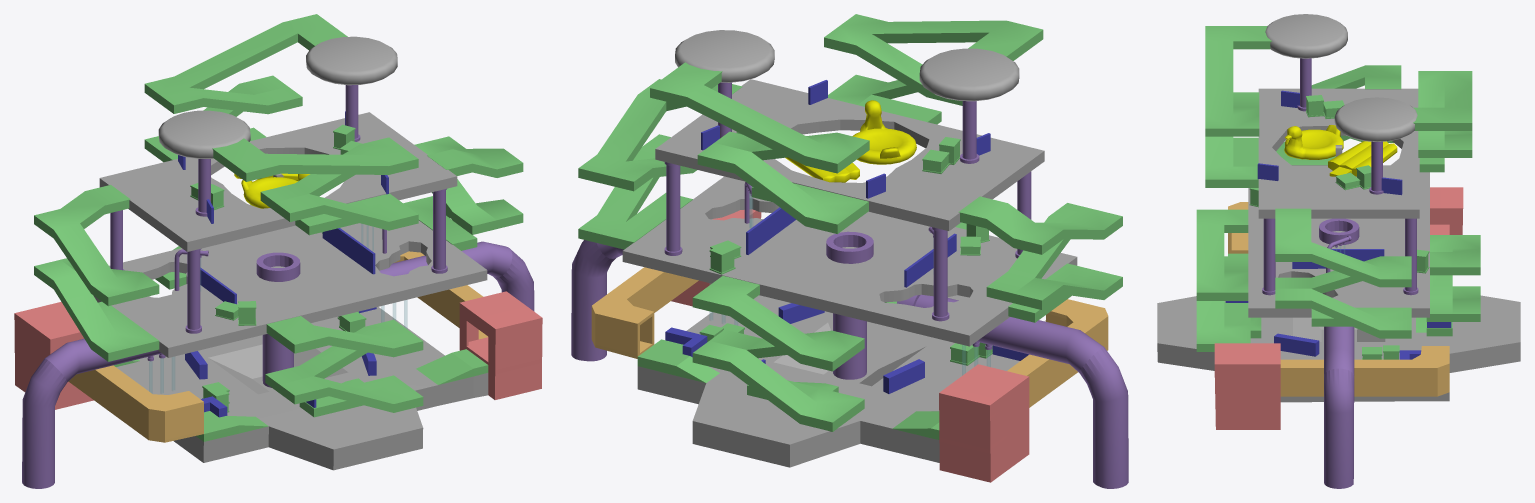
Rendered from Entire_Stage.fbx.
3 views of the same model, side by side, from view 1: azimuth 30°, elevation 25°; view 2: azimuth 150°, elevation 25°; view 3: azimuth 270°, elevation 25° (orthographic). The views are drawn at different scales.
Parts seen in each view (by area): view 1: level_base_1, level_base_2, level_base_3, Ramp_6, Ramp_7, Ramp_2, Ramp_8, Ramp_5, PIpe_L, platform2, platform1, Pipe_R (+10 smaller); view 2: level_base_1, level_base_2, level_base_3, Ramp_8, Ramp_1, Ramp_6, Ramp_7, Ramp_5, PIpe_L, platform1, platform2, Pipe_R (+13 smaller); view 3: level_base_1, level_base_3, Ramp_5, level_base_2, Ramp_7, Ramp_2, Ramp_8, Pipe_R, Ramp_1, platform2, platform1, Ramp_6 (+9 smaller).
Part boxes in pixels (x1=…): level_base_1: x1=14, y1=251, x2=542, y2=470; level_base_2: x1=93, y1=220, x2=487, y2=357; level_base_3: x1=99, y1=112, x2=457, y2=251; Ramp_6: x1=34, y1=185, x2=159, y2=361; Ramp_7: x1=212, y1=137, x2=418, y2=235; Ramp_2: x1=265, y1=316, x2=423, y2=417; Ramp_8: x1=144, y1=14, x2=347, y2=162; Ramp_5: x1=403, y1=136, x2=523, y2=250; PIpe_L: x1=22, y1=338, x2=165, y2=488; platform2: x1=306, y1=36, x2=397, y2=85; platform1: x1=158, y1=110, x2=250, y2=158; Pipe_R: x1=379, y1=241, x2=534, y2=311; level_base_1: x1=591, y1=209, x2=1108, y2=482; level_base_2: x1=622, y1=176, x2=1077, y2=346; level_base_3: x1=655, y1=79, x2=1044, y2=230; Ramp_8: x1=650, y1=62, x2=869, y2=233; Ramp_1: x1=692, y1=276, x2=864, y2=431; Ramp_6: x1=958, y1=196, x2=1122, y2=322; Ramp_7: x1=824, y1=14, x2=1043, y2=124; Ramp_5: x1=578, y1=79, x2=742, y2=249; PIpe_L: x1=897, y1=294, x2=1128, y2=488; platform1: x1=919, y1=48, x2=1019, y2=101; platform2: x1=675, y1=30, x2=774, y2=82; Pipe_R: x1=571, y1=240, x2=623, y2=361; level_base_1: x1=1157, y1=187, x2=1520, y2=429; level_base_3: x1=1258, y1=88, x2=1419, y2=218; Ramp_5: x1=1275, y1=208, x2=1411, y2=338; level_base_2: x1=1248, y1=165, x2=1429, y2=317; Ramp_7: x1=1205, y1=26, x2=1271, y2=187; Ramp_2: x1=1196, y1=209, x2=1261, y2=351; Ramp_8: x1=1413, y1=71, x2=1472, y2=172; Pipe_R: x1=1322, y1=293, x2=1354, y2=488; Ramp_1: x1=1416, y1=235, x2=1480, y2=336; platform2: x1=1334, y1=97, x2=1417, y2=141; platform1: x1=1265, y1=14, x2=1347, y2=58; Ramp_6: x1=1276, y1=65, x2=1401, y2=165.
Bounding box in the file's own units: 2139 × 1332 × 1443.
